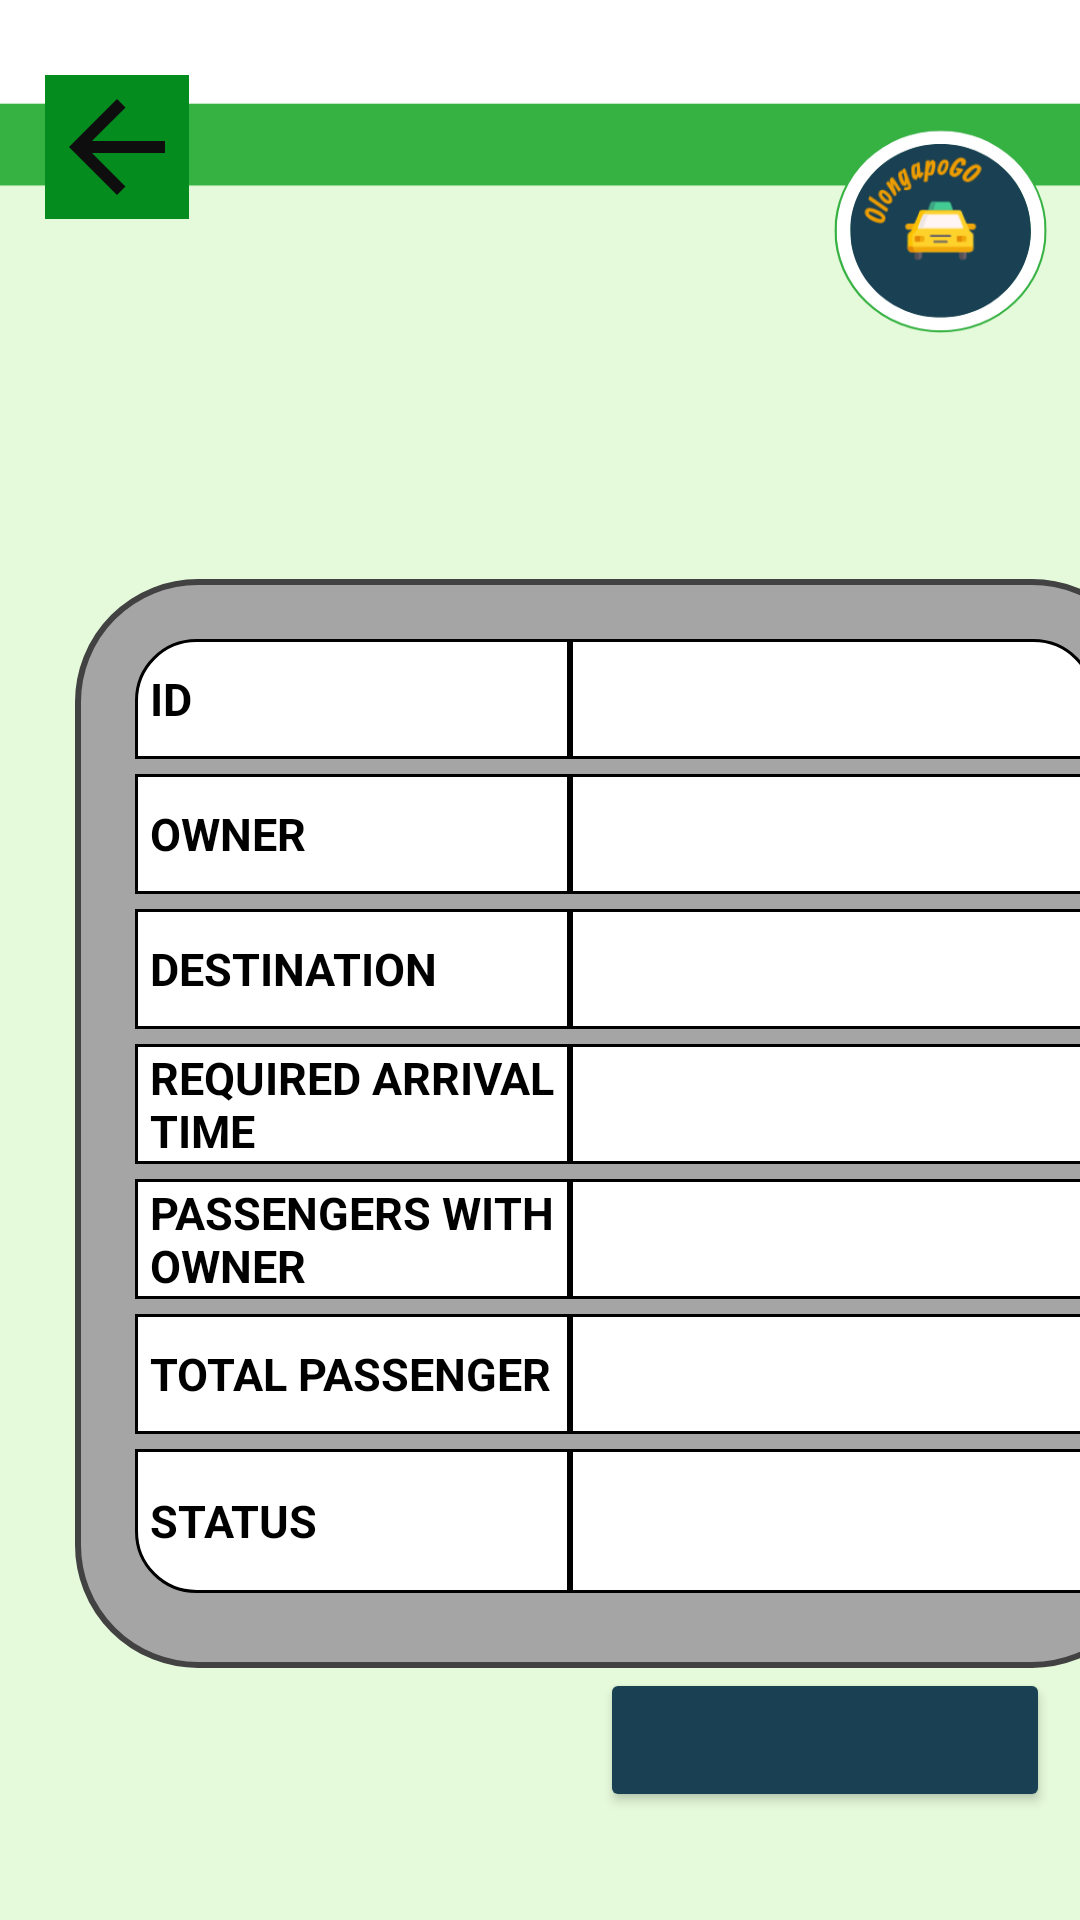

Point at icon controls on the screen. Image size 1080w x 1920h, points as [x,y].
arrow back: [117,147]
